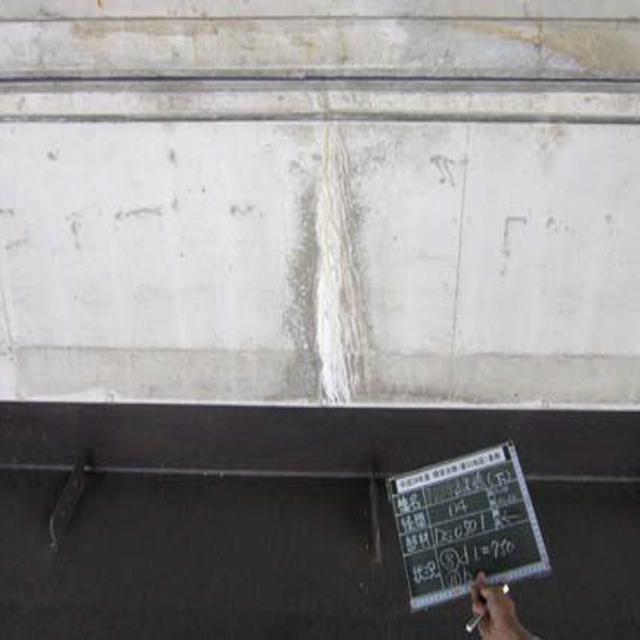freelime: (283, 107, 381, 424)
